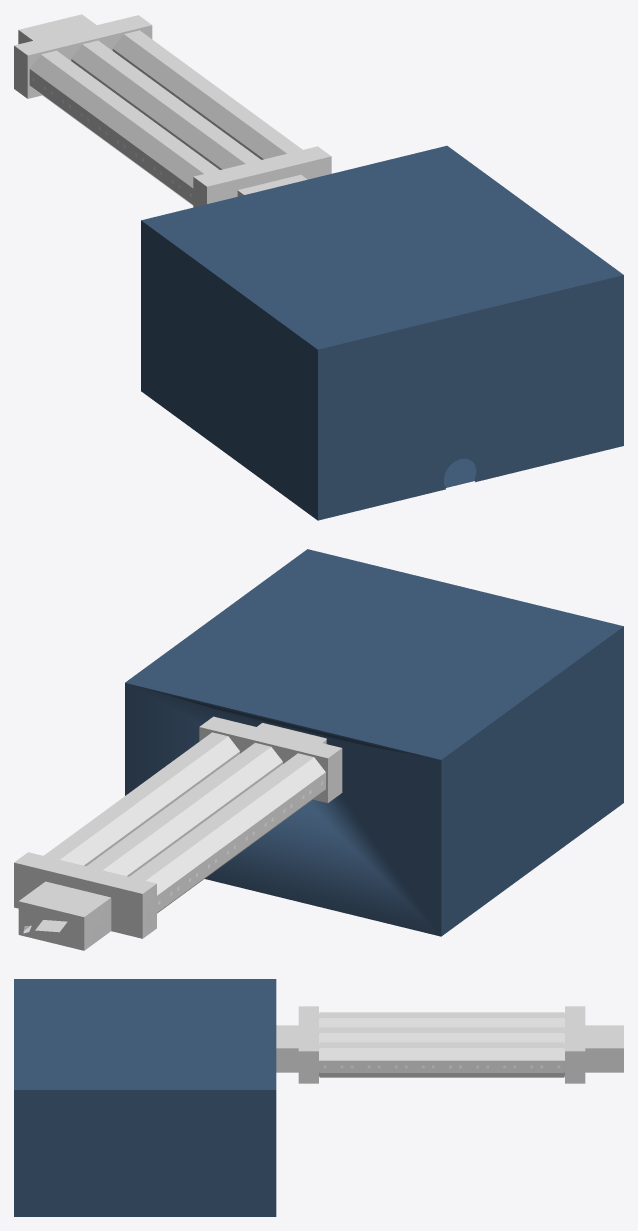
Rendered from SalaAyPuente.dae.
3 views of the same model, one above another, from view 1: azimuth 30°, elevation 25°; view 2: azimuth 150°, elevation 25°; view 3: azimuth 270°, elevation 25° (orthographic). The views are drawn at different scales.
Parts seen in each view (by area): view 1: house.001, instance_0.001, instance_0.002, instance_1.002, group_20, group_41, group_52, group_4, group_6, group_25, group_24, instance_1 (+21 smaller); view 2: house.001, instance_1.001, instance_1.010, instance_1.002, instance_0.002, instance_1.005, group_24, group_41, group_25, group_52, group_0, group_6 (+23 smaller); view 3: house.001, instance_1.001, instance_0.001, group_17, group_18, group_36, group_44, group_49, group_53, group_30, group_32, instance_0.002 (+22 smaller).
Part boxes in pixels (x1,y1,x2,y2): house.001: (141,145,623,520); instance_0.001: (193,156,331,207); instance_0.002: (193,146,330,186); instance_1.002: (14,15,151,55); group_20: (121,117,165,171); group_41: (48,64,92,118); group_52: (66,77,111,132); group_4: (157,144,202,198); group_6: (139,131,184,186); group_25: (84,91,129,145); group_24: (103,104,147,158); instance_1: (27,25,152,98); house.001: (125,549,623,936); instance_1.001: (14,862,156,950); instance_1.010: (18,901,84,950); instance_1.002: (14,852,156,893); instance_0.002: (199,716,341,758); instance_1.005: (19,881,110,916); group_24: (203,808,250,866); group_41: (147,850,193,907); group_25: (185,822,231,878); group_52: (166,836,212,893); group_0: (279,753,325,810); group_6: (241,781,287,837); house.001: (14,979,276,1216); instance_1.001: (565,1048,623,1083); instance_0.001: (276,1048,318,1083); group_17: (374,1042,401,1077); group_18: (347,1042,374,1077); group_36: (401,1042,428,1077); group_44: (509,1042,536,1077); group_49: (482,1042,509,1077); group_53: (536,1042,563,1077); group_30: (428,1042,455,1077); group_32: (455,1042,482,1077); instance_0.002: (298,1006,318,1051).
Size of the model in its own units: 53.03 by 123 by 28.77.
